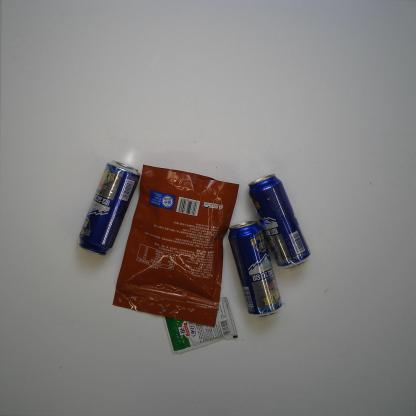Alcohol: (246, 172, 312, 270), (77, 159, 141, 256), (227, 220, 284, 318)
Dried Food: (111, 164, 241, 329)
Seasoner: (162, 296, 240, 356)
